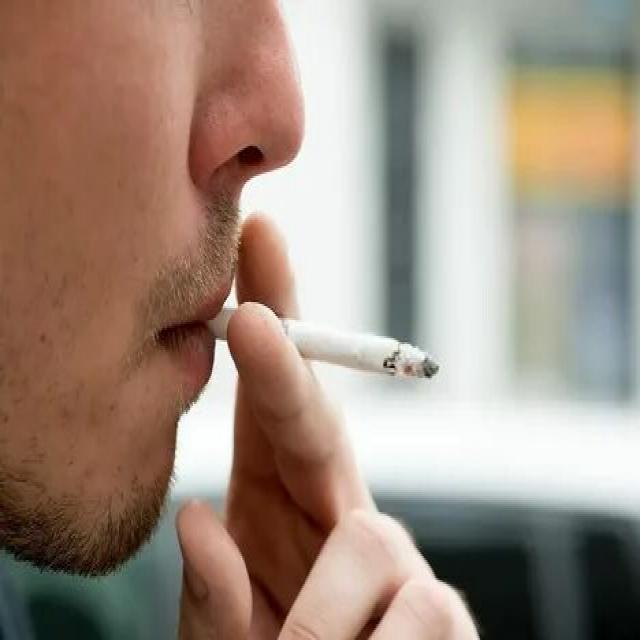cigarette: (205, 302, 442, 390)
